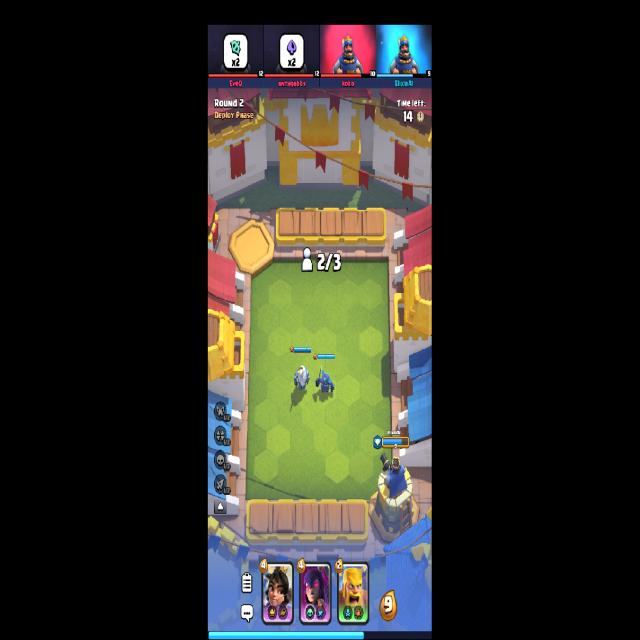card_barbarian: (337, 561, 370, 626)
card_princess: (262, 561, 294, 624)
card_witch: (299, 562, 331, 624)
mini_pekka: (316, 366, 334, 396)
royal_ghost: (292, 367, 310, 391)
